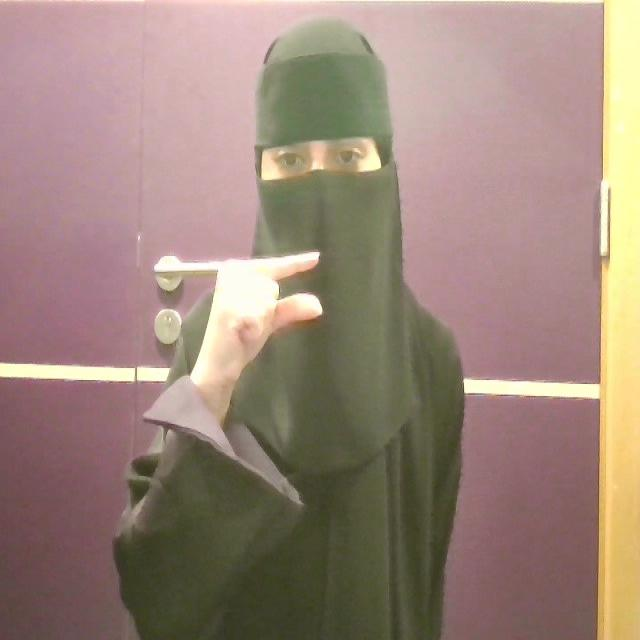fasting: (190, 242, 324, 394)
